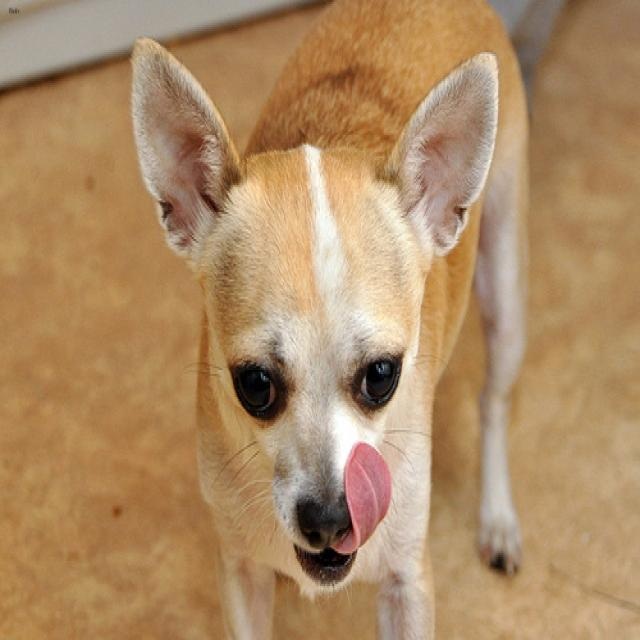dog-chihuahua: (124, 2, 535, 636)
